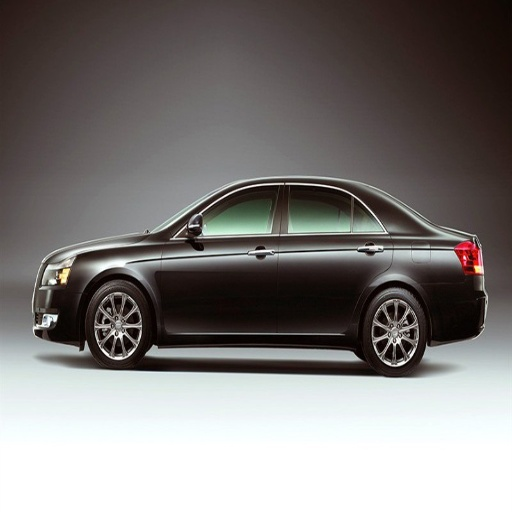back_left_door: (278, 182, 392, 336)
front_left_door: (162, 183, 284, 332)
